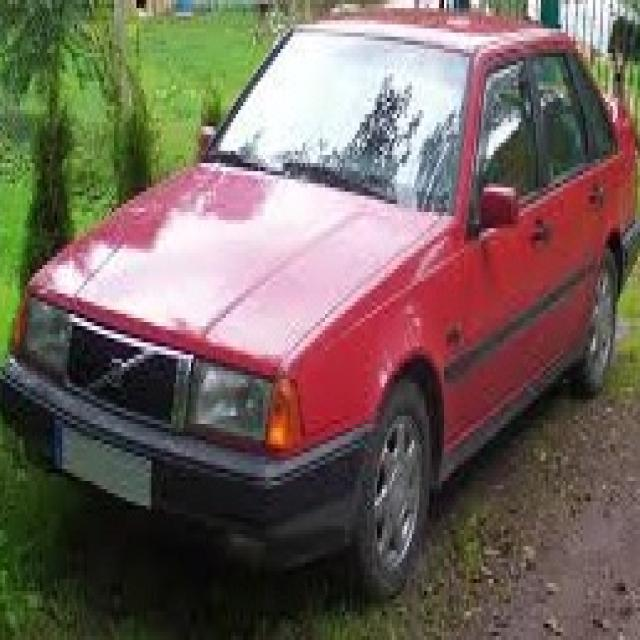red: (8, 0, 640, 563)
